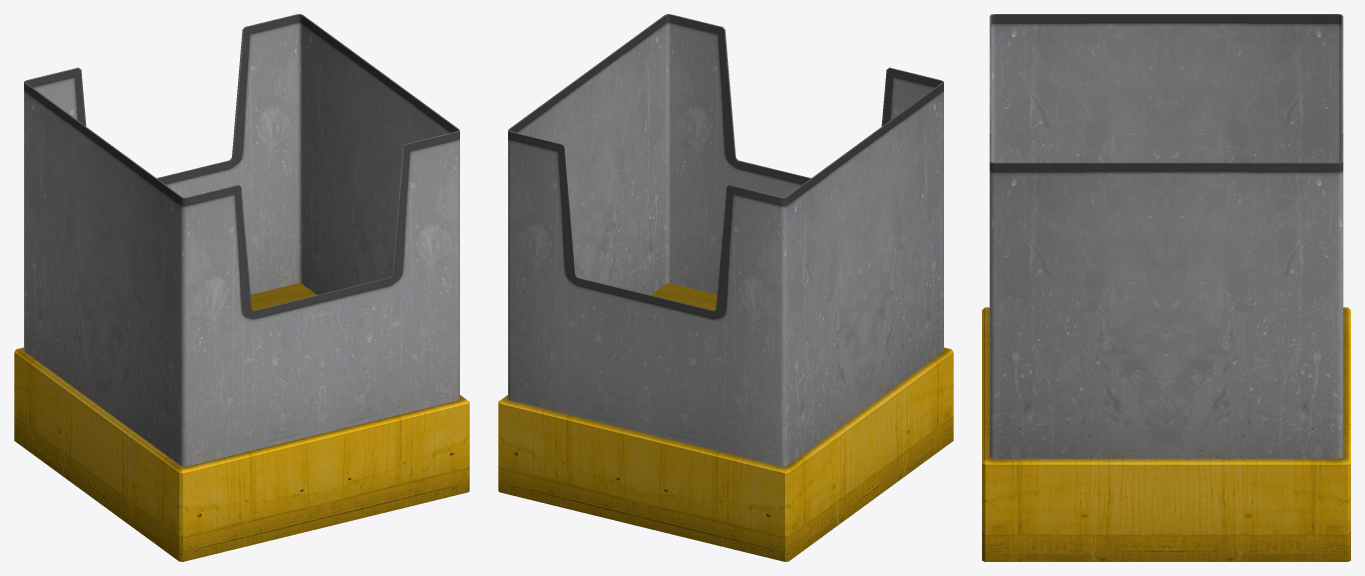
File: bin.dae
3 views of the same model, side by side, from view 1: azimuth 30°, elevation 25°; view 2: azimuth 150°, elevation 25°; view 3: azimuth 270°, elevation 25° (orthographic). The views are drawn at different scales.
Visible parts, largest first — view 1: Bin; view 2: Bin; view 3: Bin.
Part boxes in pixels (x1,y1,x2,y2): Bin: (14, 14, 469, 561); Bin: (498, 14, 953, 561); Bin: (982, 14, 1350, 561).
Bounding box in the file's own units: 668 × 668 × 791.
